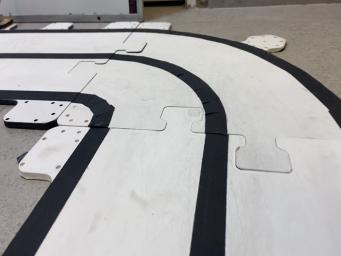street: (0, 28, 341, 256), (0, 28, 341, 256)
